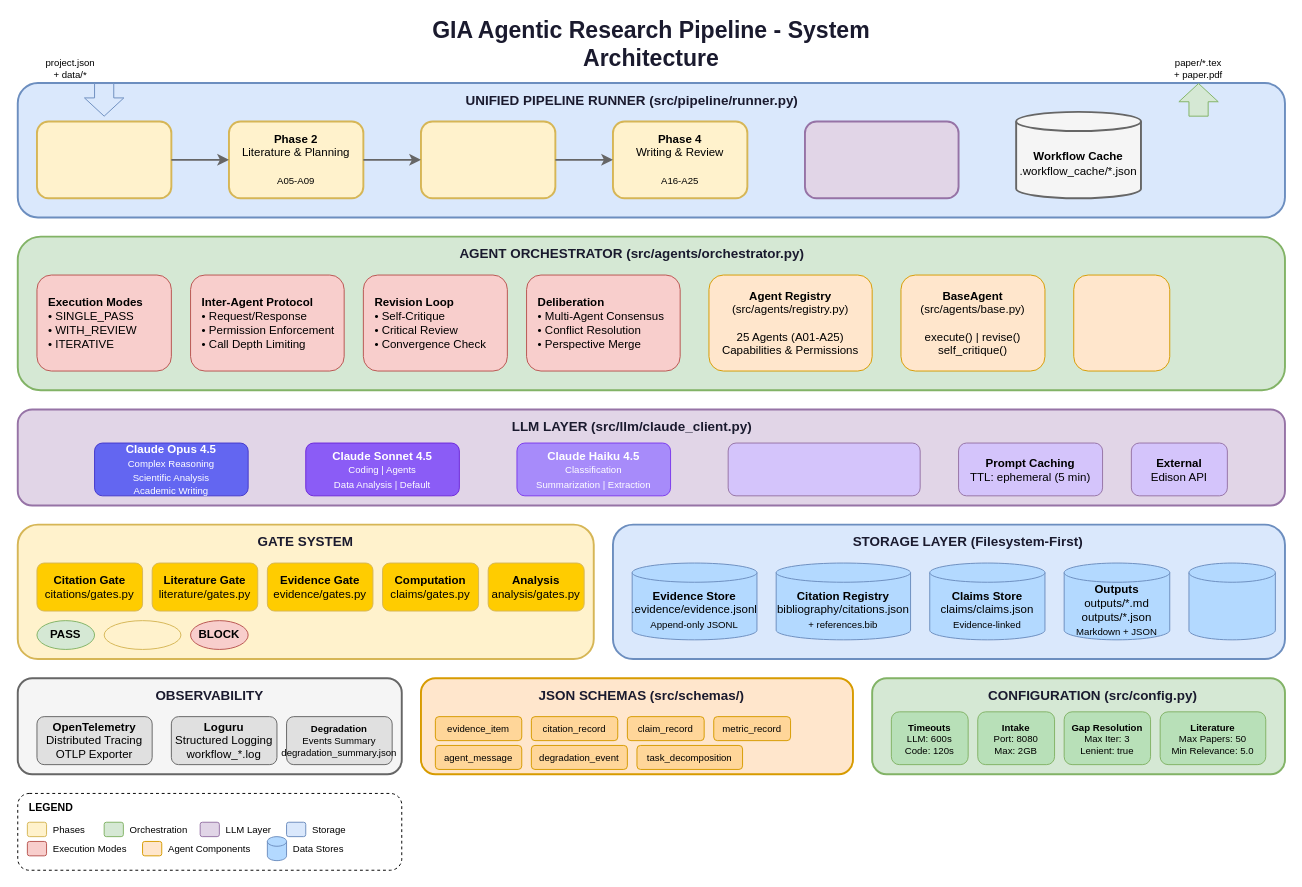
Image size: 1302x887. Some labels were removed from this diagram. The box of each missing label's shape, as (x1, y1, x2, y2) in pixels:
DOWNGRADE: (103, 620, 181, 649)
Feedback QualityScore Convergence: (1073, 274, 1170, 371)
Paper paper/*.tex LaTeX sections: (1188, 562, 1275, 640)
Phase 1 Intake & Analysis A01-A04: (36, 120, 172, 199)
Phase 3 Gap Resolution A10-A11: (420, 120, 556, 199)
Quality Agents A12-A15 Review, Style, Consistency: (804, 120, 959, 199)
Task-Based Model Selection TaskType → ModelTier mapping: (727, 442, 920, 496)
